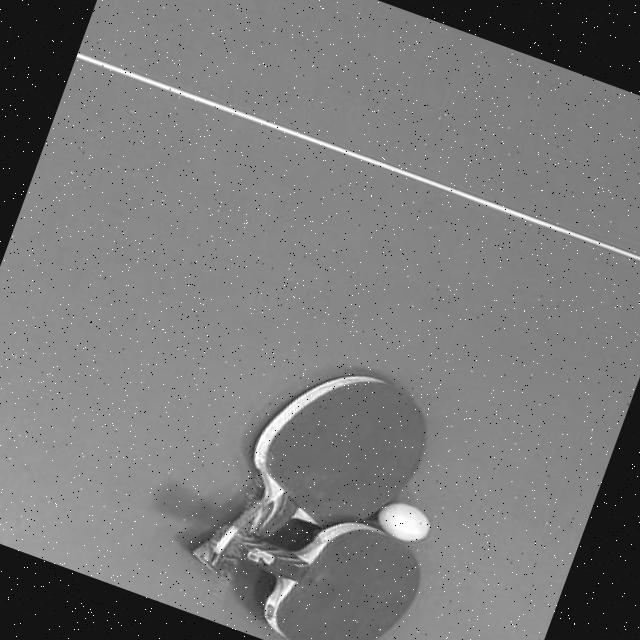ping-pong-ball: (372, 497, 434, 547)
